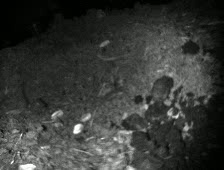corn: (71, 122, 86, 136), (78, 111, 94, 124), (49, 109, 65, 121), (15, 162, 38, 170), (98, 37, 111, 49)
